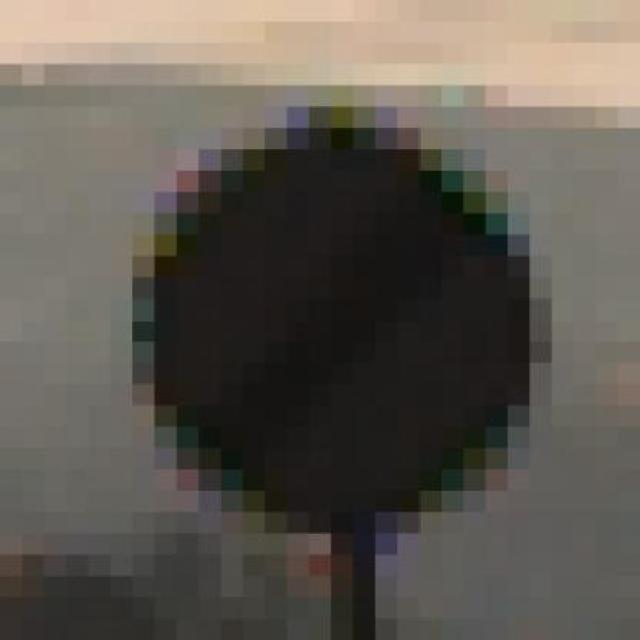End of all speed and passing limits: (132, 63, 574, 554)
